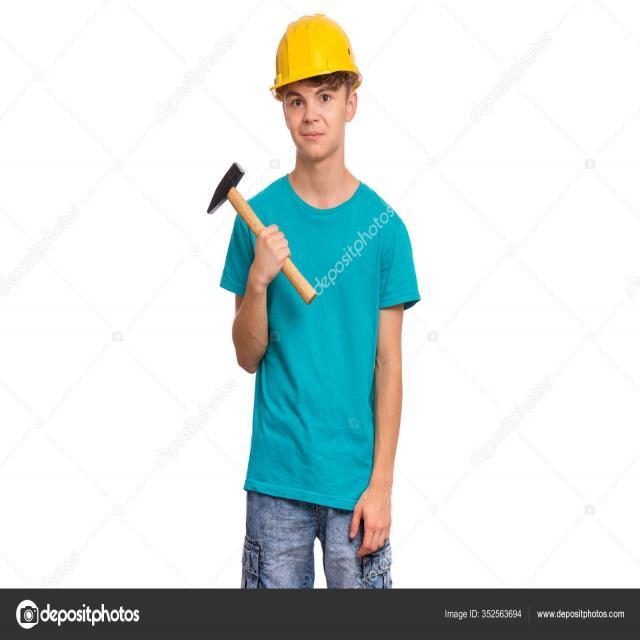hammer: (194, 151, 327, 316)
